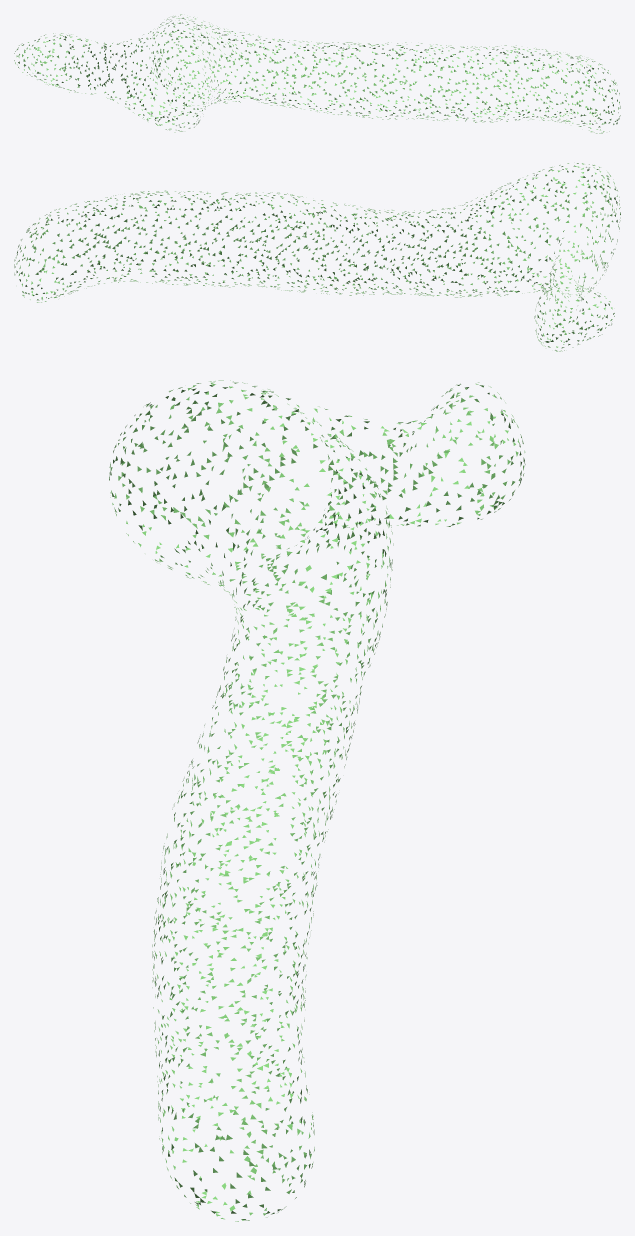
Rendered from morph_016.glb.
The picture shows the model from 3 angles, top to bottom: view 1: azimuth 30°, elevation 25°; view 2: azimuth 150°, elevation 25°; view 3: azimuth 270°, elevation 25°; orthographic projection. The views are drawn at different scales.
Bounding box in the file's own units: 148 × 54.79 × 49.61.
